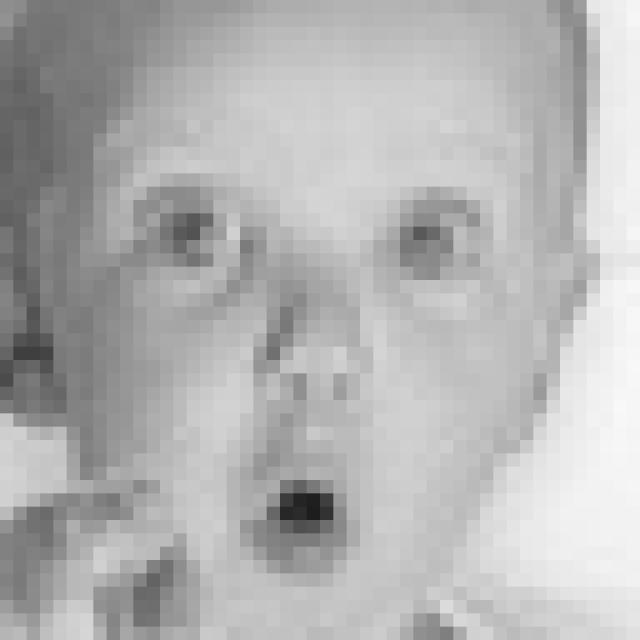surprise: (115, 132, 524, 587)
